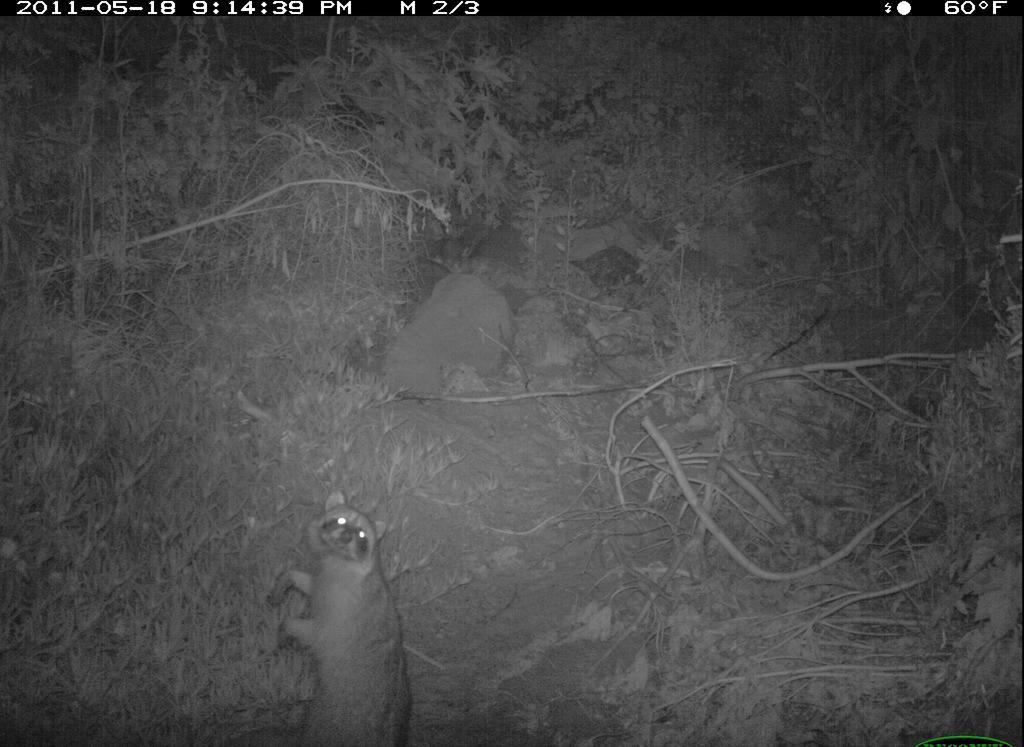raccoon: (260, 486, 424, 747)
